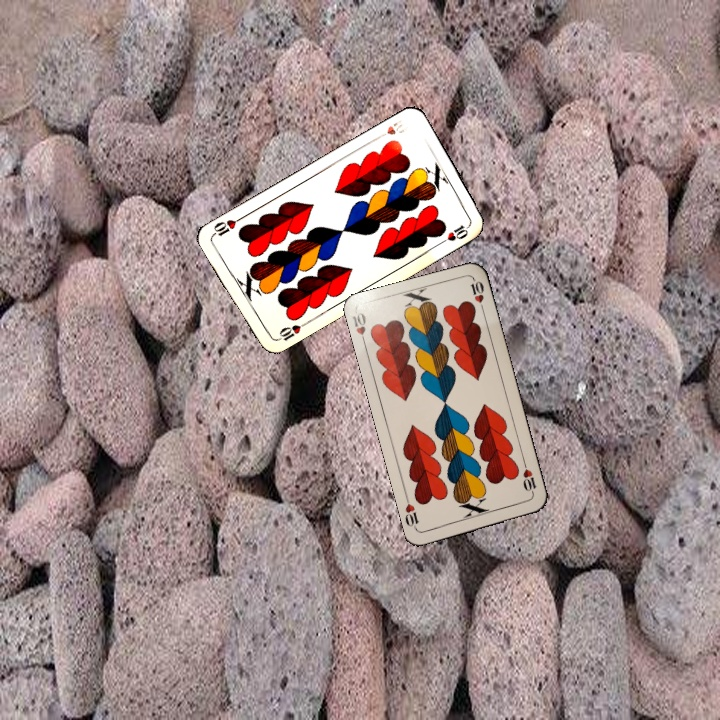H10: (272, 318, 309, 344), (373, 115, 407, 142), (519, 458, 539, 498), (349, 308, 369, 348)
